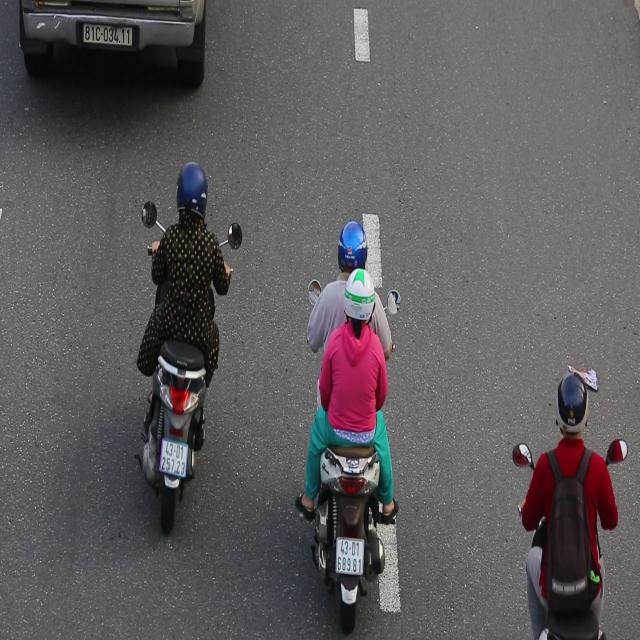motorbike: (280, 185, 418, 633), (128, 150, 246, 544)
